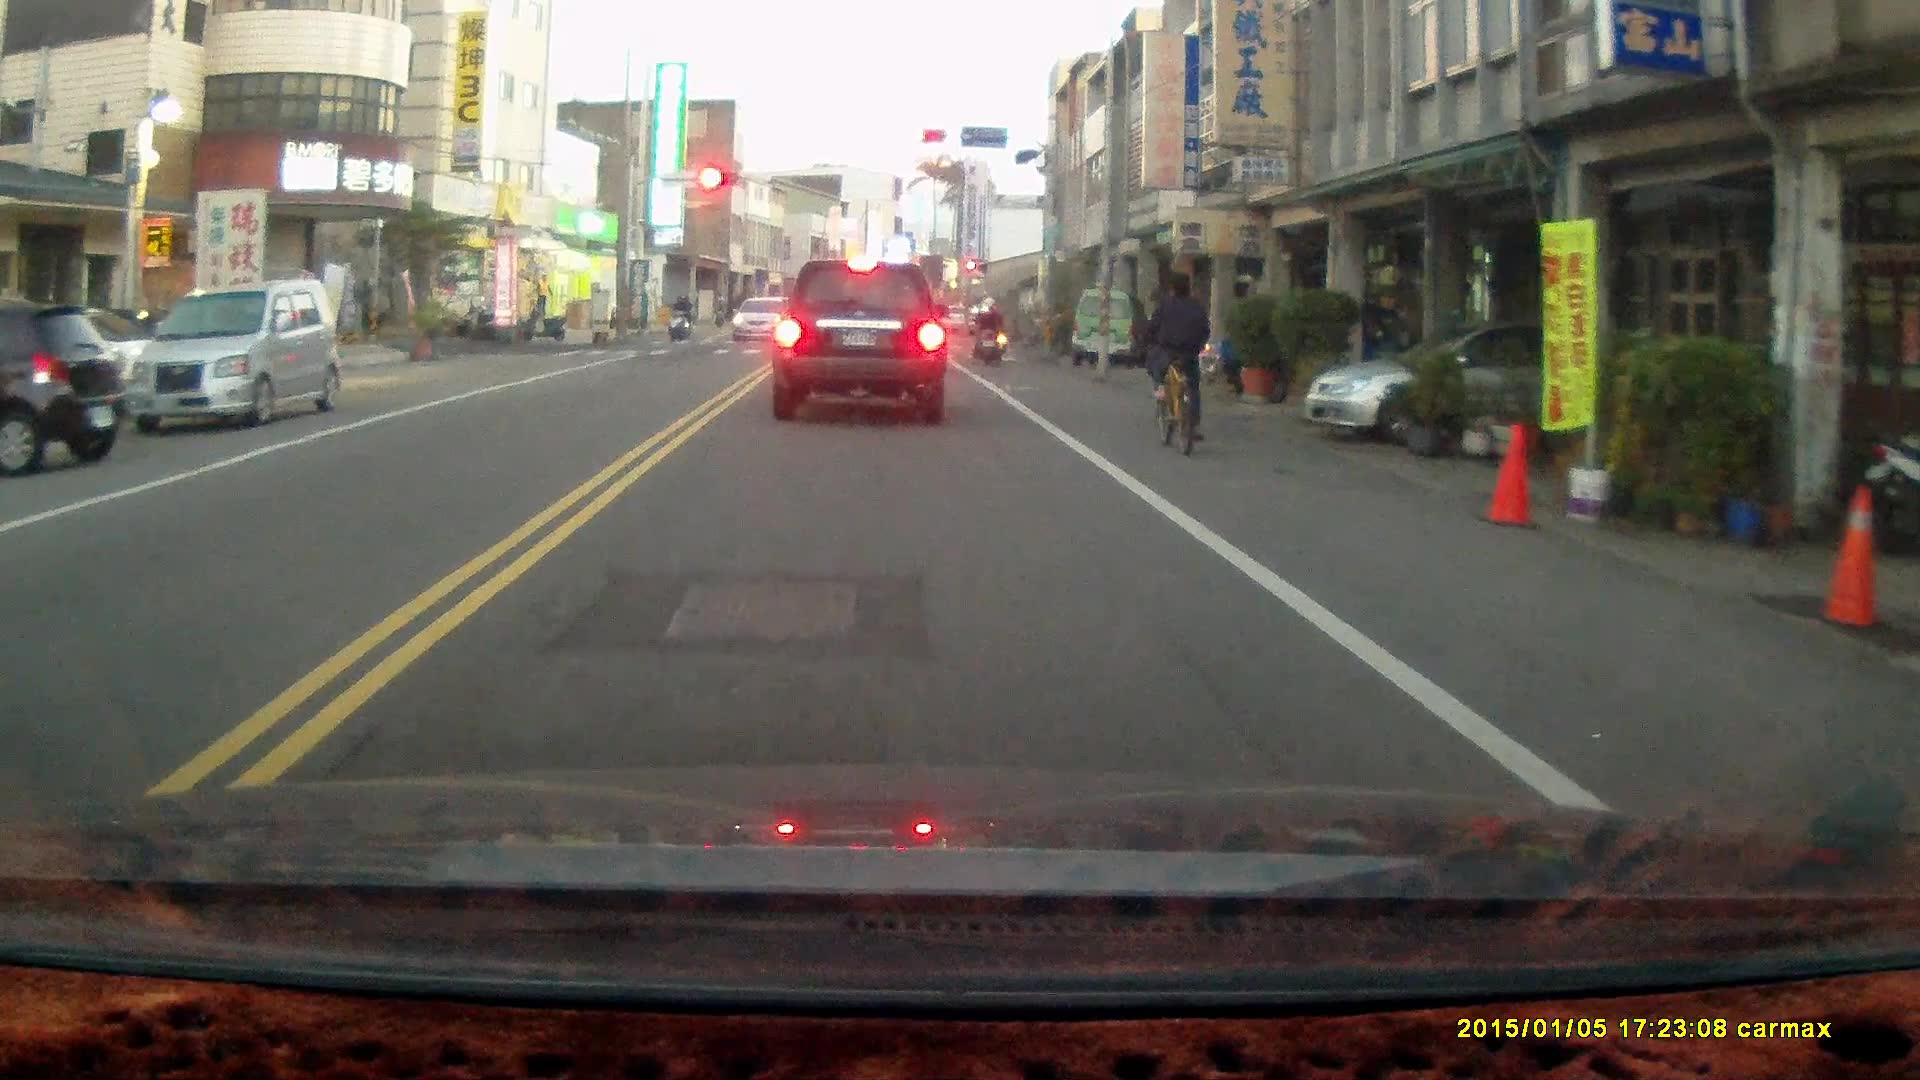pedestrian: (532, 271, 552, 318)
rider: (1142, 270, 1211, 455), (970, 292, 1007, 364), (665, 292, 691, 343)
vehicle: (1305, 316, 1674, 441), (123, 276, 344, 432), (768, 256, 951, 429), (1, 296, 127, 478), (1071, 290, 1148, 368)
